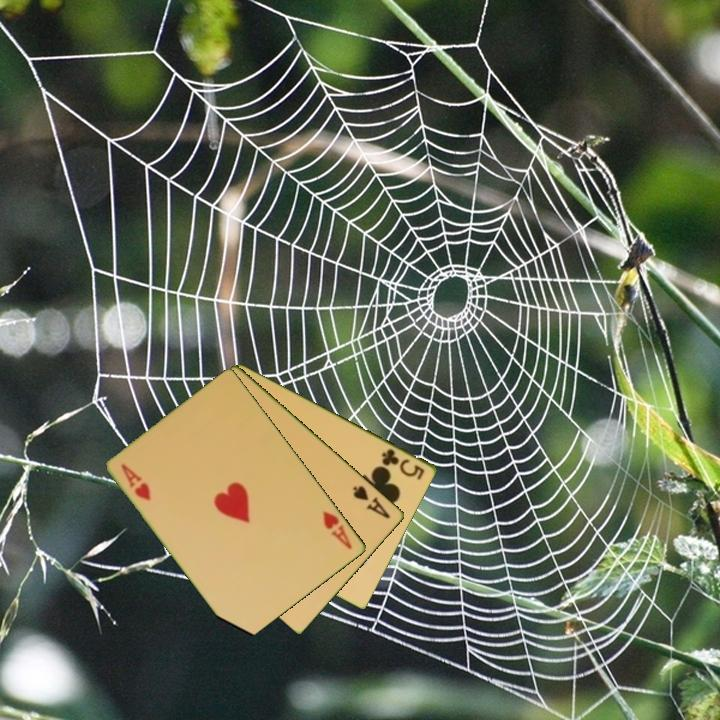5c: (378, 445, 428, 483)
Ah: (319, 508, 355, 552), (118, 460, 154, 504)
As: (349, 482, 393, 522)
